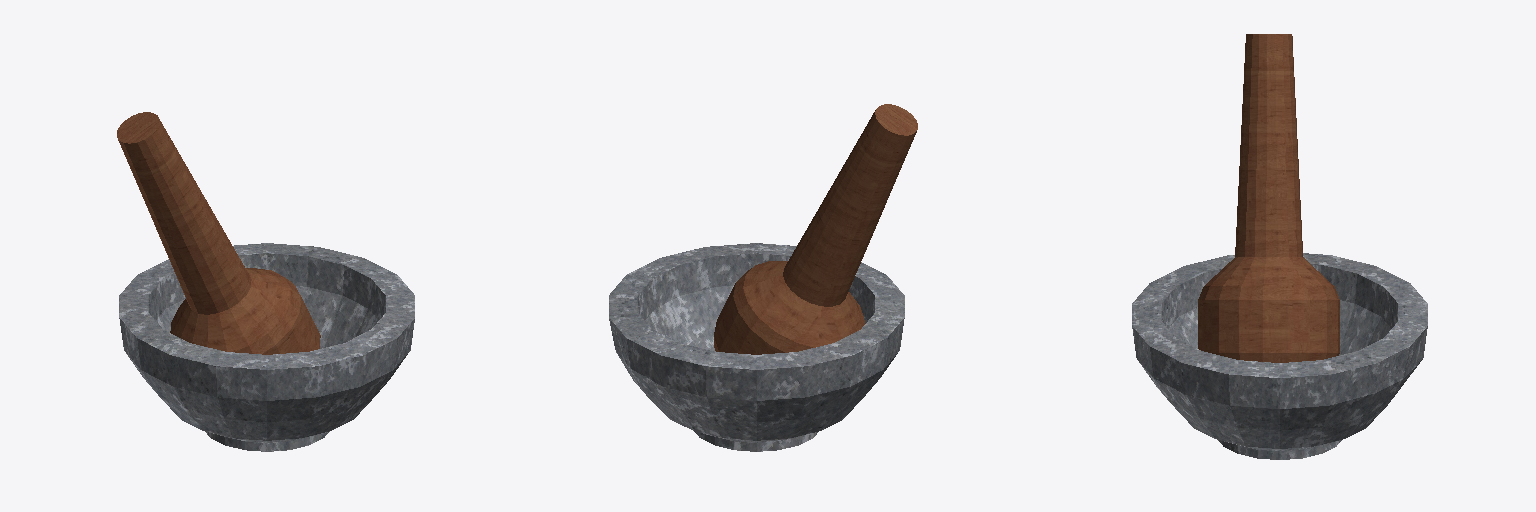
3 views of the same model, side by side, from view 1: azimuth 30°, elevation 25°; view 2: azimuth 150°, elevation 25°; view 3: azimuth 270°, elevation 25° (orthographic).
Parts seen in each view (by area): view 1: shimo:Cylinder001 shimo:group2, shimo:group2 shimo:Cylinder002; view 2: shimo:Cylinder001 shimo:group2, shimo:group2 shimo:Cylinder002; view 3: shimo:Cylinder001 shimo:group2, shimo:group2 shimo:Cylinder002.
Part boxes in pixels (bbox=[...]): shimo:Cylinder001 shimo:group2: bbox=[119, 243, 414, 451]; shimo:group2 shimo:Cylinder002: bbox=[117, 112, 320, 354]; shimo:Cylinder001 shimo:group2: bbox=[609, 243, 904, 451]; shimo:group2 shimo:Cylinder002: bbox=[714, 104, 917, 354]; shimo:Cylinder001 shimo:group2: bbox=[1132, 253, 1427, 459]; shimo:group2 shimo:Cylinder002: bbox=[1198, 34, 1339, 362].
Bounding box in the file's own units: 28.33 × 32.74 × 25.67.
2 materials, 2 textured.